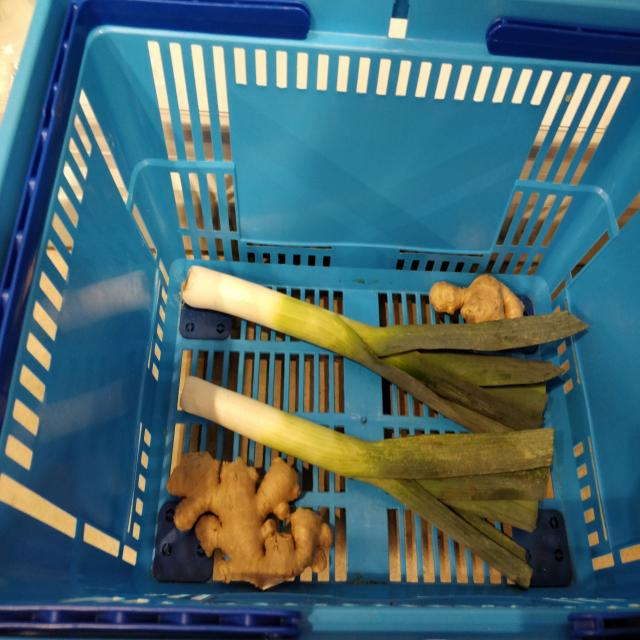Ginger: (166, 452, 332, 590)
Leek: (176, 374, 554, 589), (180, 266, 589, 434)
